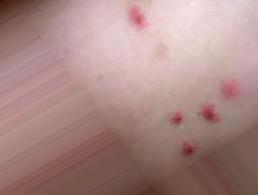Fleas: (122, 1, 150, 33), (195, 100, 223, 129), (219, 80, 239, 98), (180, 140, 197, 157), (169, 111, 184, 126)
